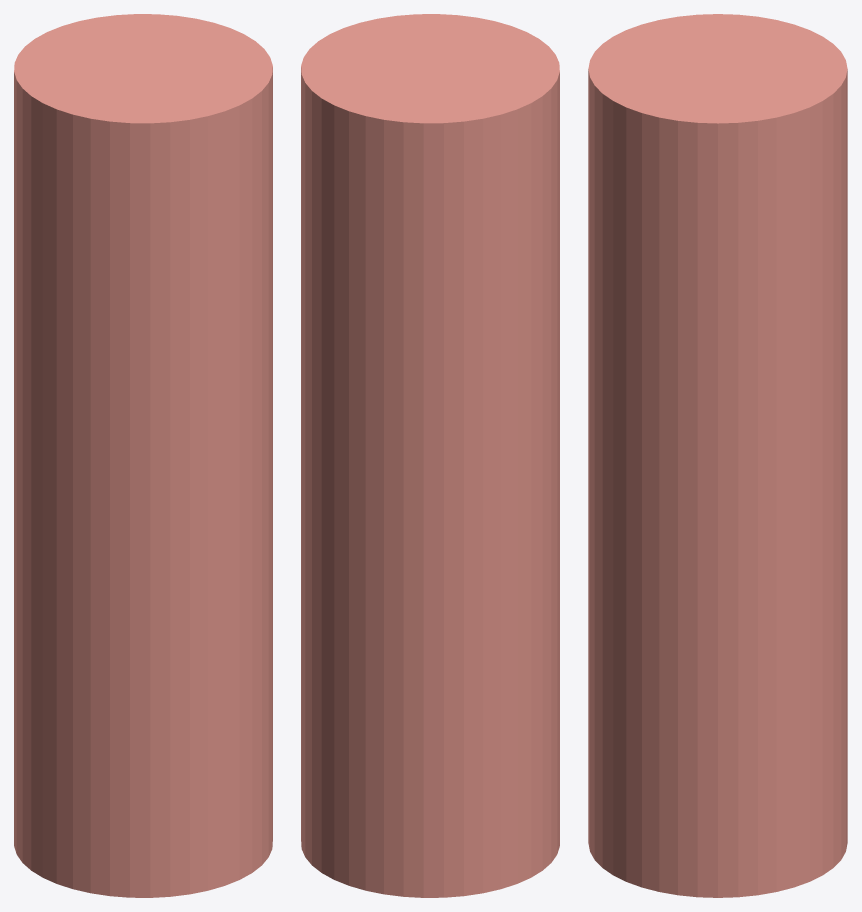
Rendered from gen_aerosol-can_02.glb.
3 renders of one model, left to right at view 1: azimuth 30°, elevation 25°; view 2: azimuth 150°, elevation 25°; view 3: azimuth 270°, elevation 25°, orthographic.
Visible parts, largest first — view 1: z-up-to-y-up; view 2: z-up-to-y-up; view 3: z-up-to-y-up.
Boxes of the visible parts, x1,y1,x2,y2 form: z-up-to-y-up: [14, 14, 272, 897]; z-up-to-y-up: [301, 14, 559, 897]; z-up-to-y-up: [588, 14, 847, 897].
Size of the model in its own units: 0.0509 by 0.168 by 0.0509.
